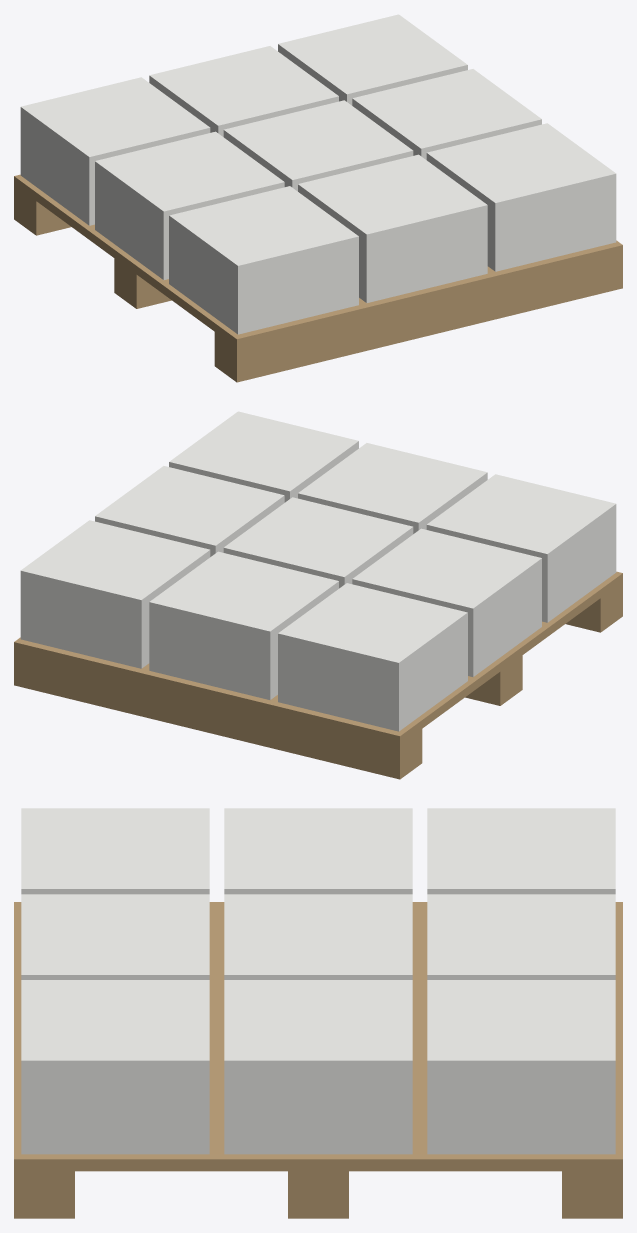
The model's file is pallet_mp_09.glb.
3 views of the same model, one above another, from view 1: azimuth 30°, elevation 25°; view 2: azimuth 150°, elevation 25°; view 3: azimuth 270°, elevation 25° (orthographic). The views are drawn at different scales.
Parts seen in each view (by area): view 1: PalletMP; view 2: PalletMP; view 3: PalletMP.
Boxes of the visible parts, box(x1,y1,x2,y2) form: PalletMP: box(14, 14, 622, 382); PalletMP: box(14, 411, 622, 779); PalletMP: box(14, 808, 622, 1218).
Size of the model in its own units: 1 by 0.2814 by 1.
